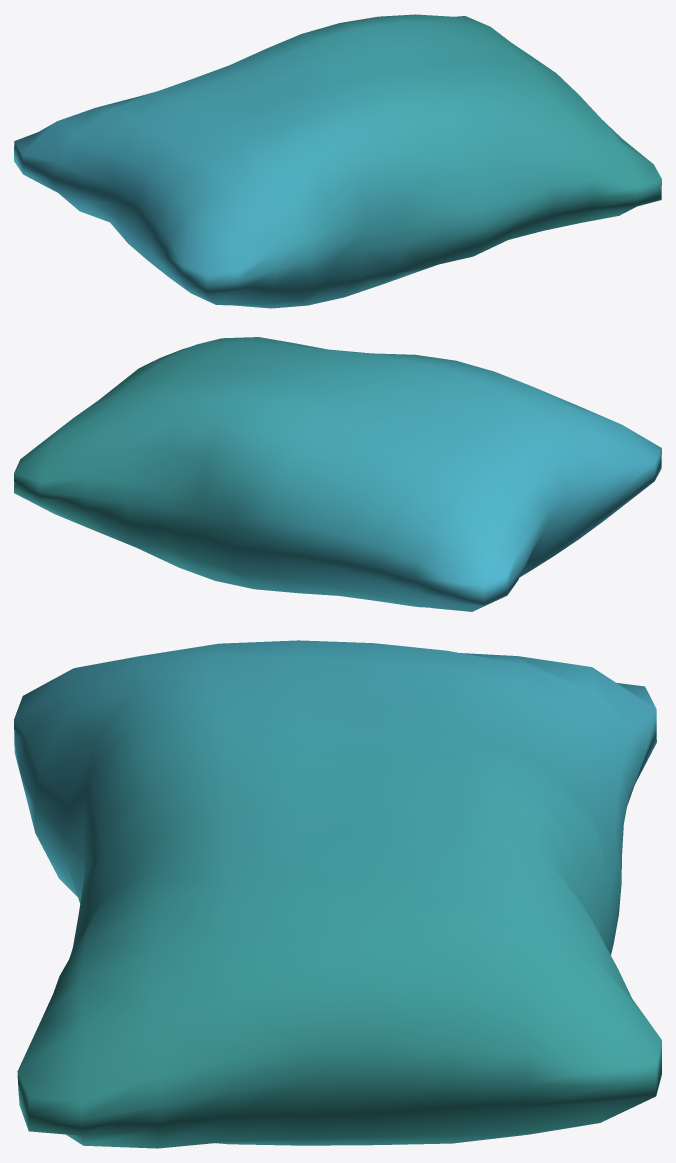
File: pillow_01.glb
3 renders of one model, top to bottom at view 1: azimuth 30°, elevation 25°; view 2: azimuth 150°, elevation 25°; view 3: azimuth 270°, elevation 25°, orthographic. The views are drawn at different scales.
Parts seen in each view (by area): view 1: pillow_01; view 2: pillow_01; view 3: pillow_01.
Part boxes in pixels (x1,y1,x2,y2): pillow_01: [14, 14, 661, 308]; pillow_01: [14, 337, 661, 611]; pillow_01: [14, 640, 661, 1148].
Size of the model in its own units: 0.3813 by 0.1372 by 0.2653.
1 material, 1 textured.
